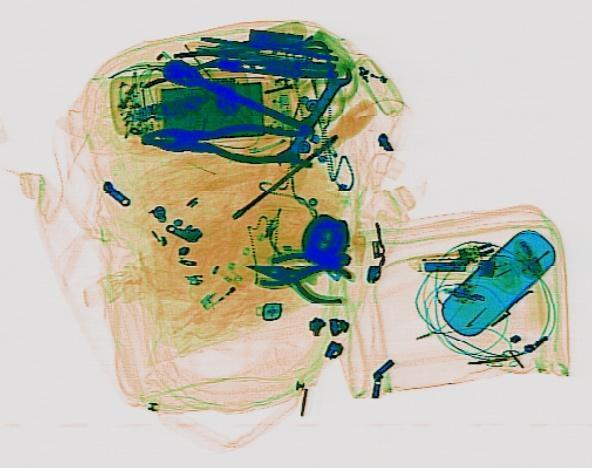Pliers: (139, 116, 315, 167), (236, 245, 356, 308), (249, 244, 353, 286)
Wrench: (268, 62, 356, 168)
